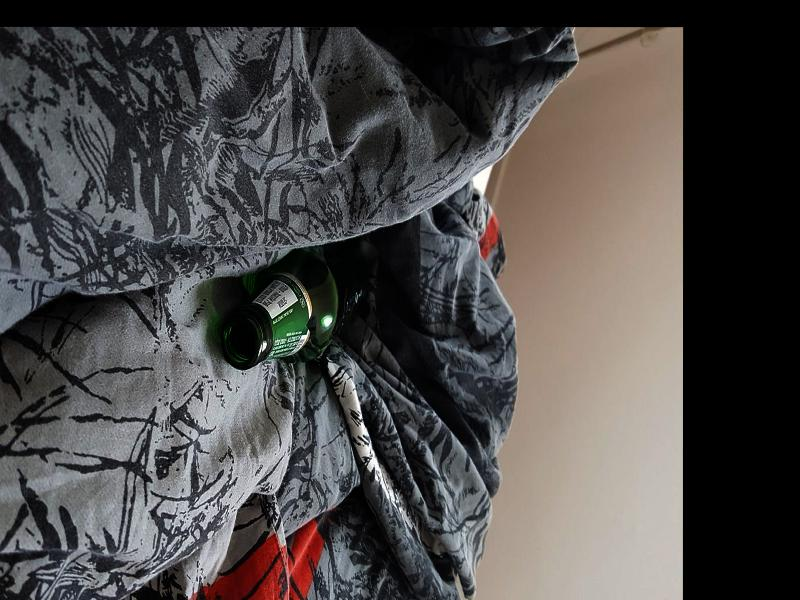Beer: (220, 249, 366, 365)
